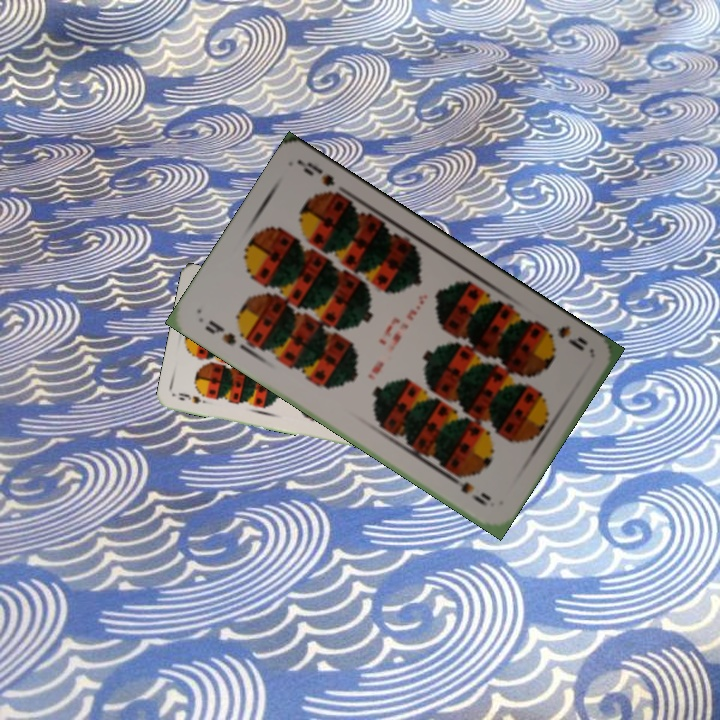S9: (539, 320, 591, 354), (201, 316, 239, 348), (175, 389, 204, 406)
